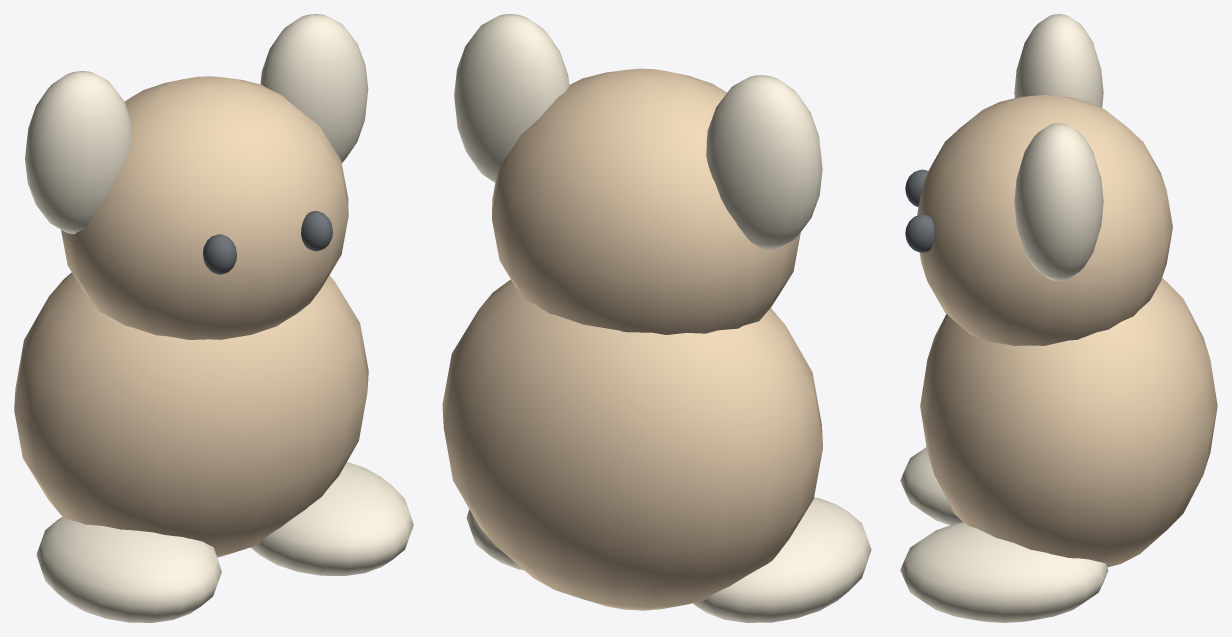
File: candidate.glb
3 views of the same model, side by side, from view 1: azimuth 30°, elevation 25°; view 2: azimuth 150°, elevation 25°; view 3: azimuth 270°, elevation 25° (orthographic). The views are drawn at different scales.
Visible parts, largest first — view 1: body, head, foot (×2), ear (×2), eye (×2); view 2: body, head, ear (×2), foot (×2); view 3: body, head, ear (×2), foot (×2), eye (×2).
Boxes of the visible parts, <box> form: body: <box>14,272,368,557</box>; head: <box>61,76,348,339</box>; foot (×2): <box>36,462,413,622</box>; ear (×2): <box>25,14,368,233</box>; eye (×2): <box>203,211,332,274</box>; body: <box>442,279,822,610</box>; head: <box>492,68,800,334</box>; ear (×2): <box>454,14,822,250</box>; foot (×2): <box>466,497,871,622</box>; body: <box>920,278,1217,567</box>; head: <box>917,95,1172,345</box>; ear (×2): <box>1014,14,1103,281</box>; foot (×2): <box>900,447,1108,622</box>; eye (×2): <box>905,169,934,252</box>.
Bounding box in the file's own units: 0.125 × 0.18 × 0.105.
